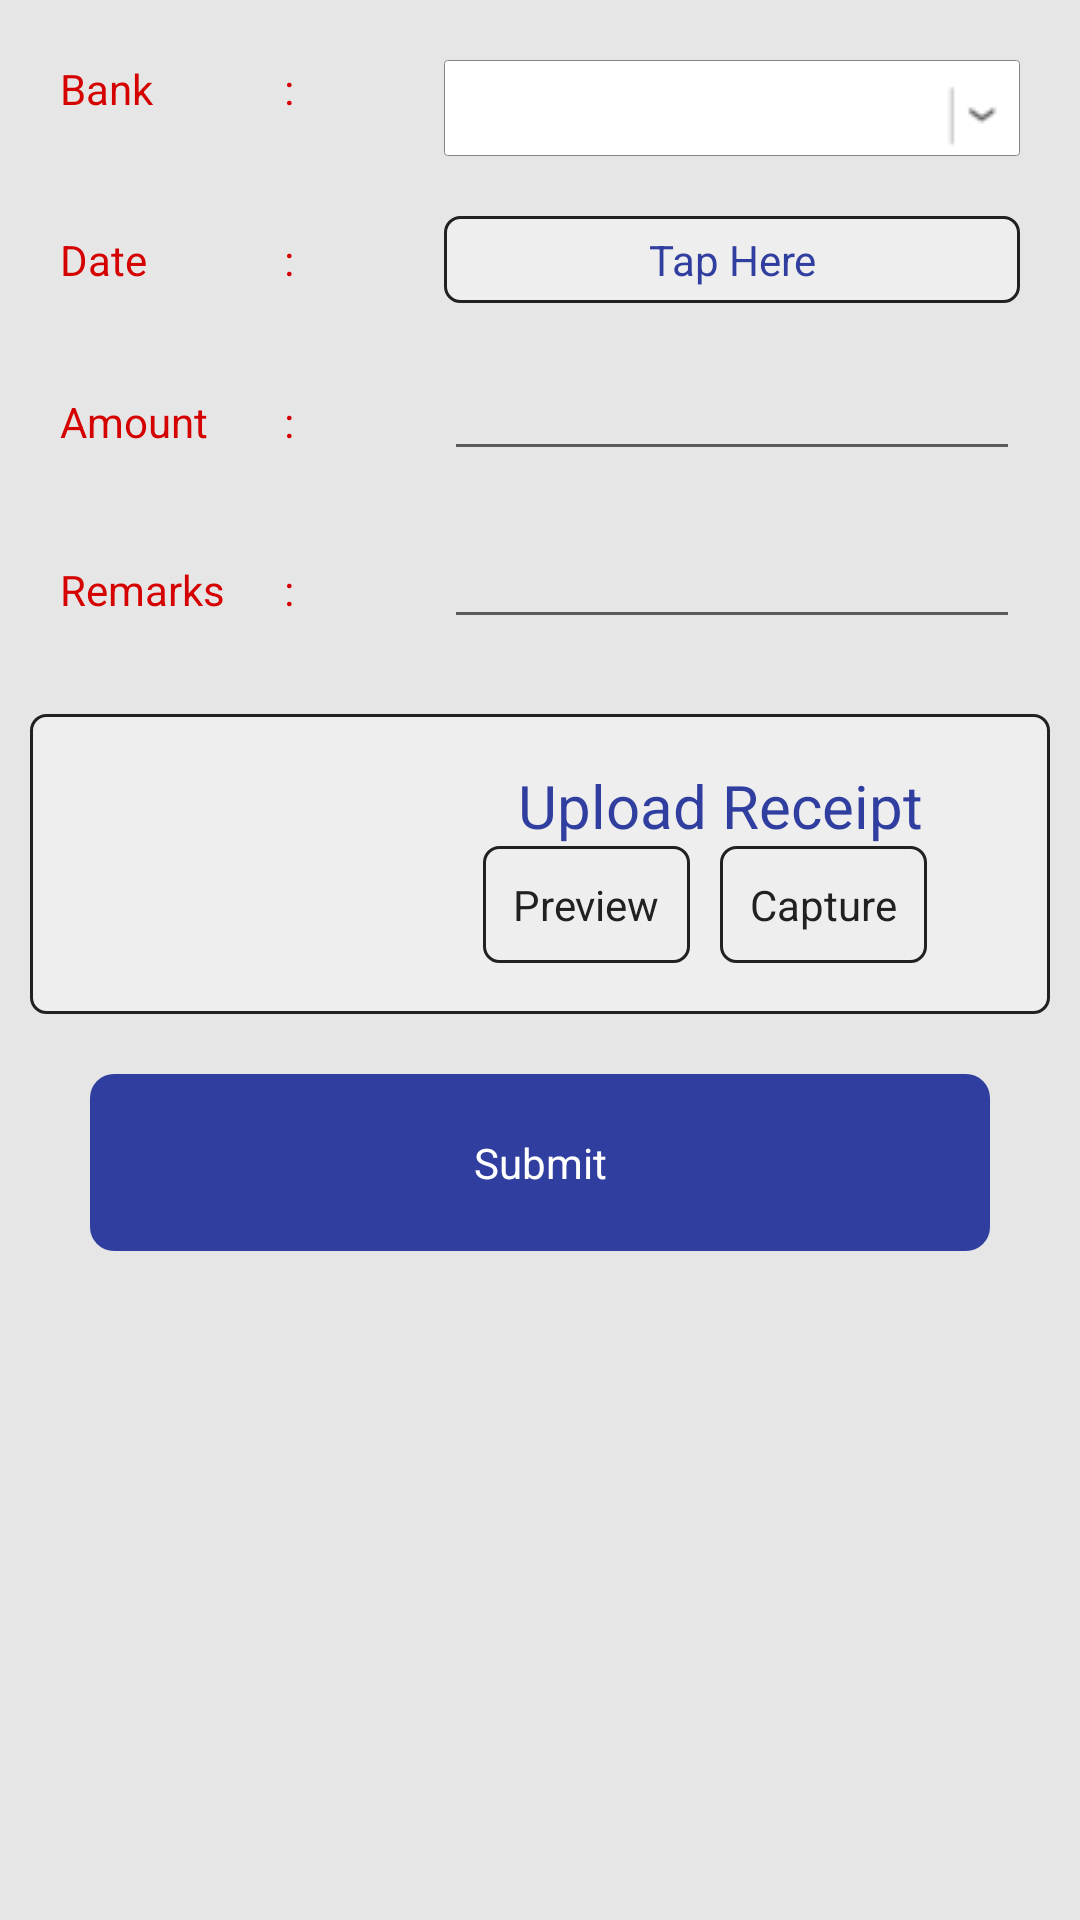

Named icons in this screenshot (1080*1920) and their centers, (x=x, y=y):
spin: (x=972, y=108)
